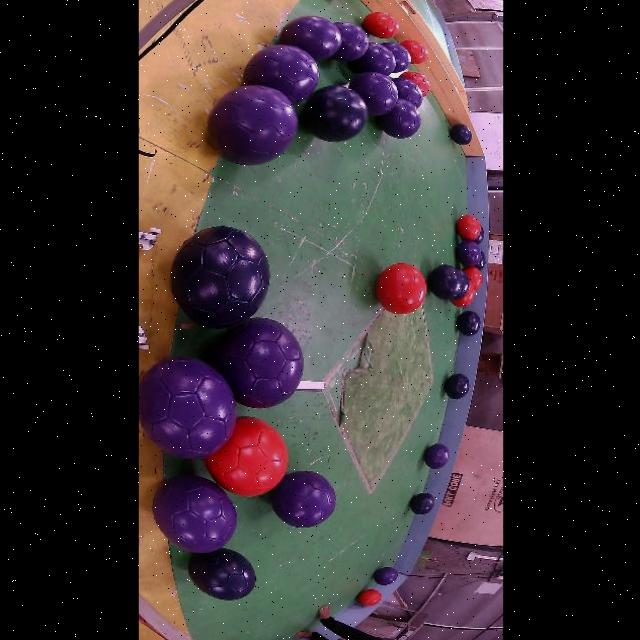B: (171, 226, 269, 328), (300, 85, 367, 142), (187, 549, 255, 601), (428, 265, 462, 301), (443, 374, 468, 399), (455, 311, 479, 336), (409, 493, 434, 514), (449, 125, 471, 145)
P: (139, 357, 235, 459), (214, 317, 302, 408), (207, 85, 297, 165), (152, 474, 236, 554), (243, 45, 319, 104), (271, 470, 335, 528), (279, 16, 340, 61), (348, 71, 397, 116), (376, 98, 420, 138), (348, 42, 395, 75), (331, 22, 368, 61), (392, 76, 423, 108), (381, 42, 410, 73), (455, 240, 481, 266), (424, 444, 448, 469), (373, 568, 397, 585)
R: (204, 417, 287, 497), (376, 263, 425, 314), (362, 12, 398, 38), (400, 71, 429, 97), (455, 214, 481, 240), (400, 40, 428, 64), (449, 283, 474, 308), (462, 266, 482, 290), (357, 589, 381, 607)
